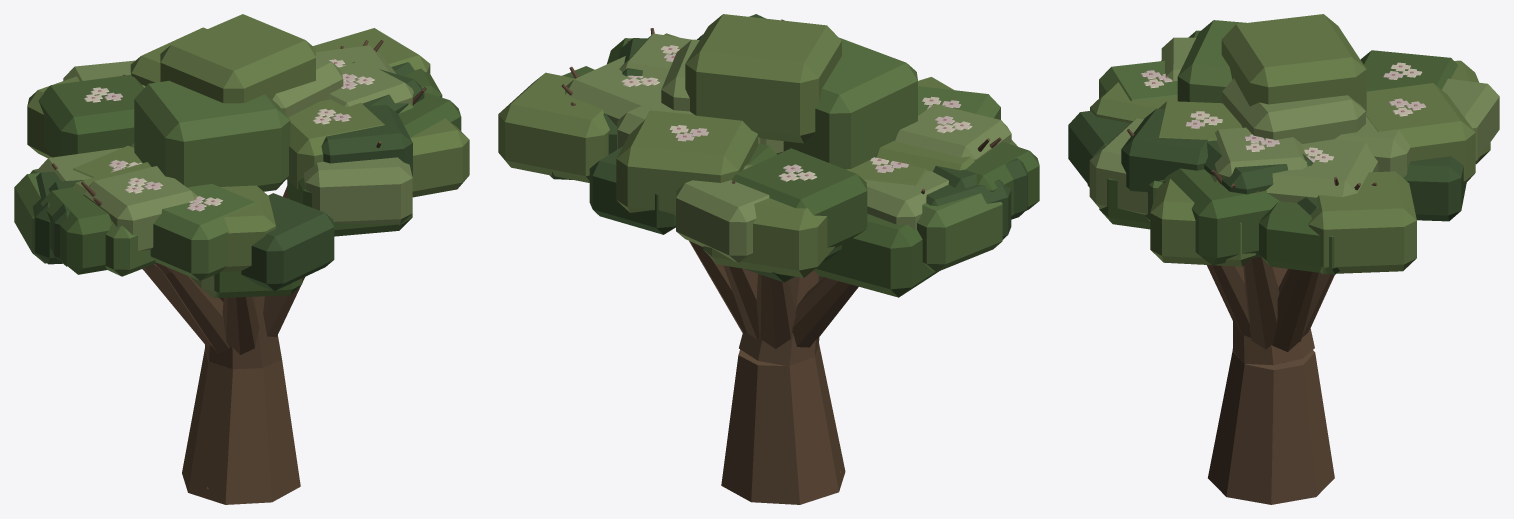
File: apple_ancient_spring.glb
3 views of the same model, side by side, from view 1: azimuth 30°, elevation 25°; view 2: azimuth 150°, elevation 25°; view 3: azimuth 270°, elevation 25° (orthographic). The views are drawn at different scales.
Parts seen in each view (by area): view 1: apple_ancient_spring; view 2: apple_ancient_spring; view 3: apple_ancient_spring.
Part boxes in pixels (x1=…): apple_ancient_spring: x1=14, y1=14, x2=469, y2=504; apple_ancient_spring: x1=498, y1=14, x2=1039, y2=504; apple_ancient_spring: x1=1068, y1=14, x2=1499, y2=504.
Size of the model in its own units: 18.75 by 18 by 15.95.
